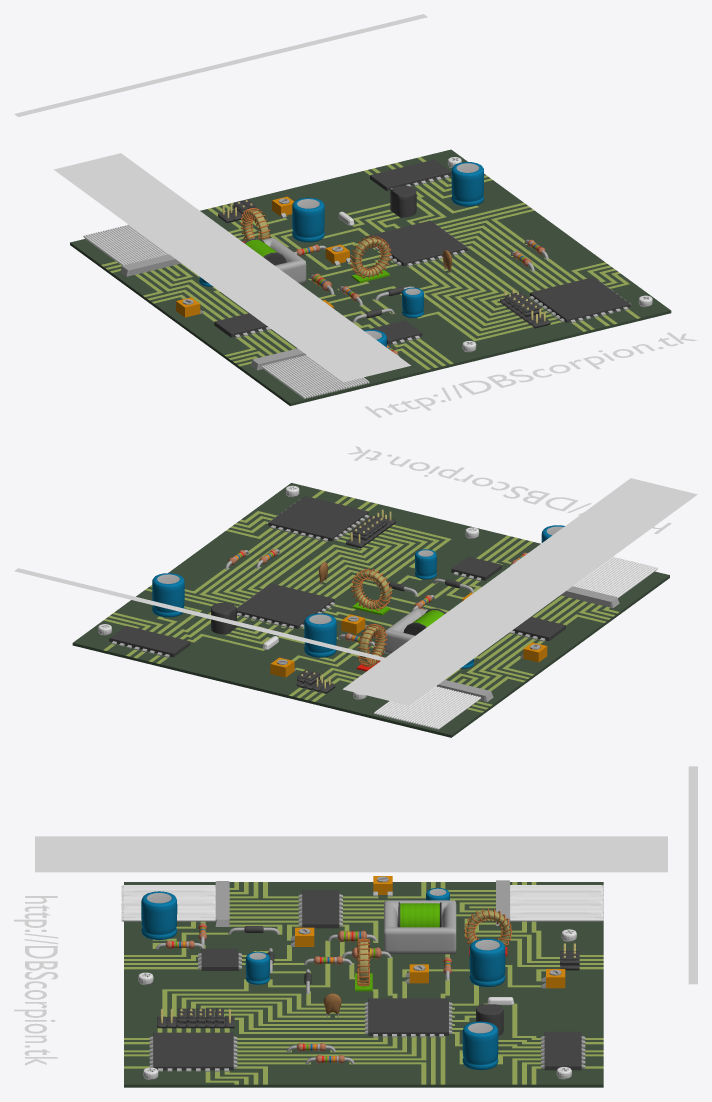
Rendered from circuitboard.fbx.
3 renders of one model, top to bottom at view 1: azimuth 30°, elevation 25°; view 2: azimuth 150°, elevation 25°; view 3: azimuth 270°, elevation 25°, orthographic. The views are drawn at different scales.
Visible parts, largest first — view 1: board, Cube.001, CHIP.001, CHIP, Ribbon Cable, Plane, Ribbon Cable.001, Text, DIP, Capacitor2, Capacitor2.001, transformer (+7 smaller); view 2: board, Cube.001, CHIP.001, CHIP, Ribbon Cable.001, Plane, Ribbon Cable, Text, DIP, transformer, Capacitor2.001, Capacitor2 (+12 smaller); view 3: board, Cube.001, transformer, Ribbon Cable.001, CHIP.001, CHIP, Ribbon Cable, Text, Plane, DIP.001, DIP, Capacitor2 (+11 smaller).
Part boxes in pixels (<box>): board: <box>70,149,671,405</box>; Cube.001: <box>53,153,410,381</box>; CHIP.001: <box>529,277,631,322</box>; CHIP: <box>366,220,468,266</box>; Ribbon Cable: <box>261,355,369,398</box>; Plane: <box>14,14,427,116</box>; Ribbon Cable.001: <box>83,224,168,265</box>; Text: <box>364,332,697,417</box>; DIP: <box>370,159,451,191</box>; Capacitor2: <box>292,197,324,242</box>; Capacitor2.001: <box>451,162,483,206</box>; transformer: <box>244,238,306,284</box>; board: <box>72,483,669,737</box>; Cube.001: <box>342,478,697,705</box>; CHIP.001: <box>267,496,369,541</box>; CHIP: <box>237,583,334,628</box>; Ribbon Cable.001: <box>373,686,480,729</box>; Plane: <box>14,568,424,670</box>; Ribbon Cable: <box>573,556,657,598</box>; Text: <box>347,446,671,533</box>; DIP: <box>109,626,190,657</box>; transformer: <box>384,608,445,654</box>; Capacitor2.001: <box>152,573,184,617</box>; Capacitor2: <box>304,613,336,657</box>; board: <box>124,882,603,1087</box>; Cube.001: <box>35,836,667,872</box>; transformer: <box>384,900,456,954</box>; Ribbon Cable.001: <box>510,885,603,921</box>; CHIP.001: <box>149,1032,237,1071</box>; CHIP: <box>365,998,452,1037</box>; Ribbon Cable: <box>121,885,215,921</box>; Text: <box>14,896,58,1065</box>; Plane: <box>688,766,697,984</box>; DIP.001: <box>298,890,342,928</box>; DIP: <box>541,1031,585,1070</box>; Capacitor2: <box>469,938,505,986</box>.
Bounding box in the file's own units: 1075 × 261 × 1426.
